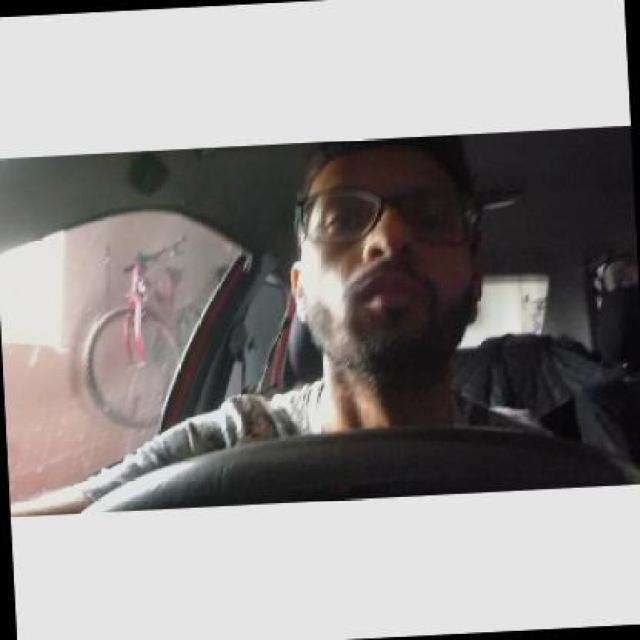person: (286, 146, 491, 394)
